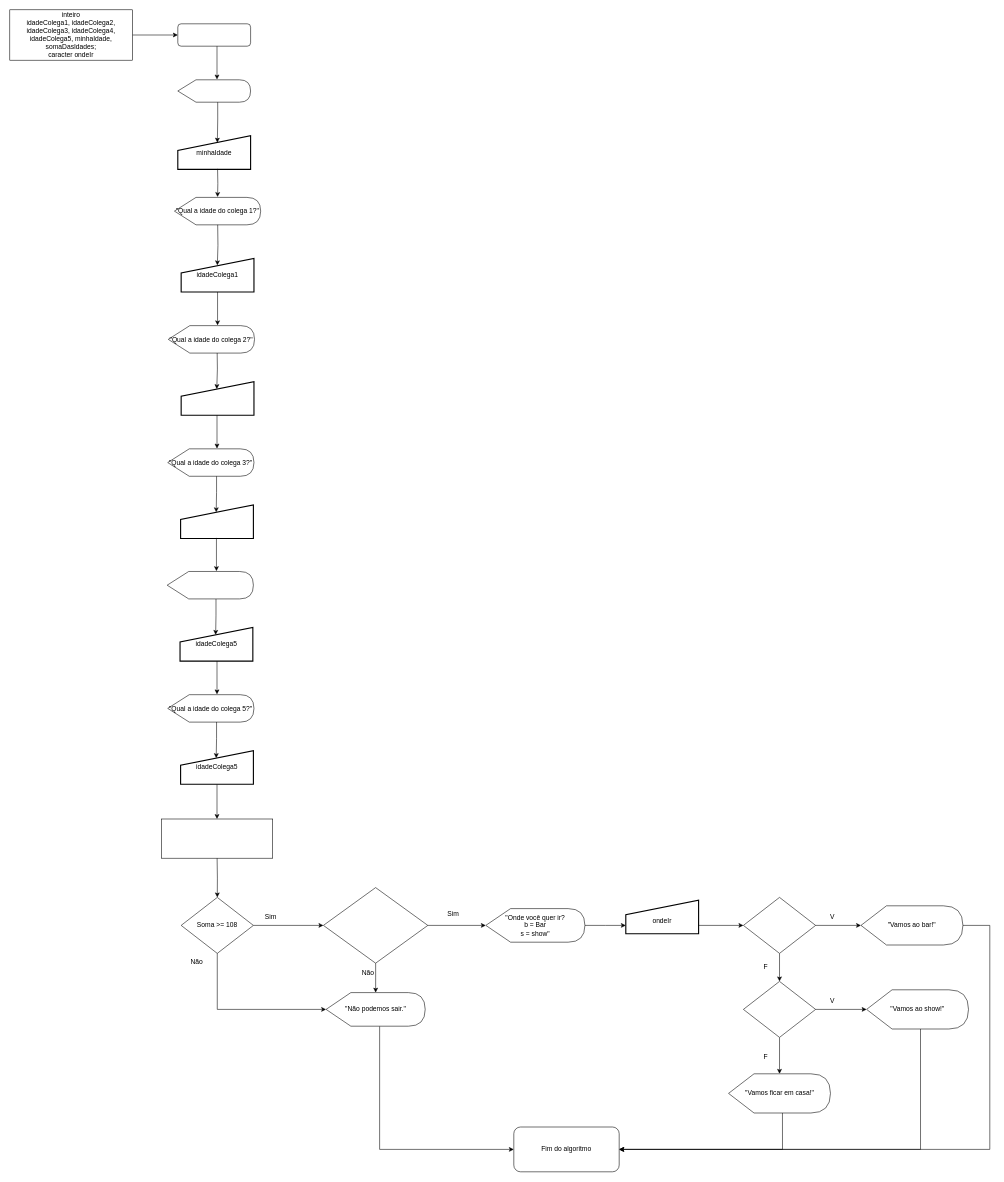
This 1004x1182 diagram has some shape labels left out. Each missing label, with the centre of its shape:
"Qual a idade do colega 4 ?": [210,585]
"Qual a sua idade?": [214,90]
IdadeColega1,2,3,4,5 e minhaIdade >=18: [375,925]
idadeColega2: [217,398]
idadeColega3: [217,521]
Início: [214,34]
ondeIr = 'b': [779,925]
ondeIr = 's ': [779,1009]
somaDasIdades = soma de todas as idades informadas: [217,838]
